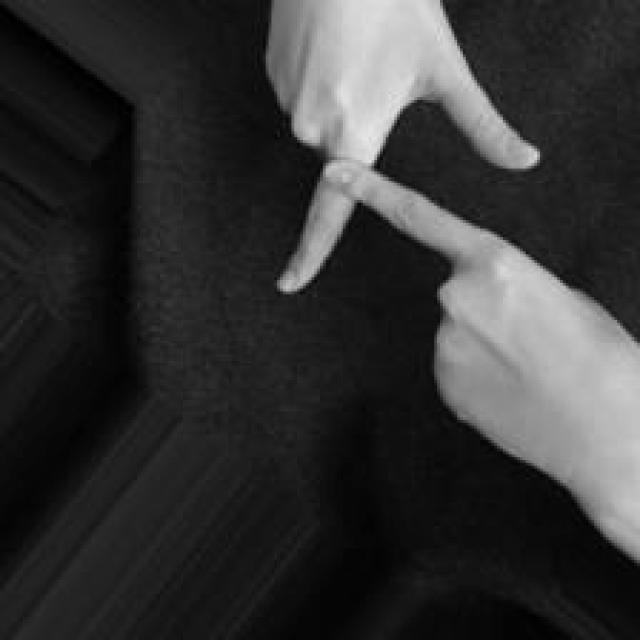F: (263, 0, 640, 491)
